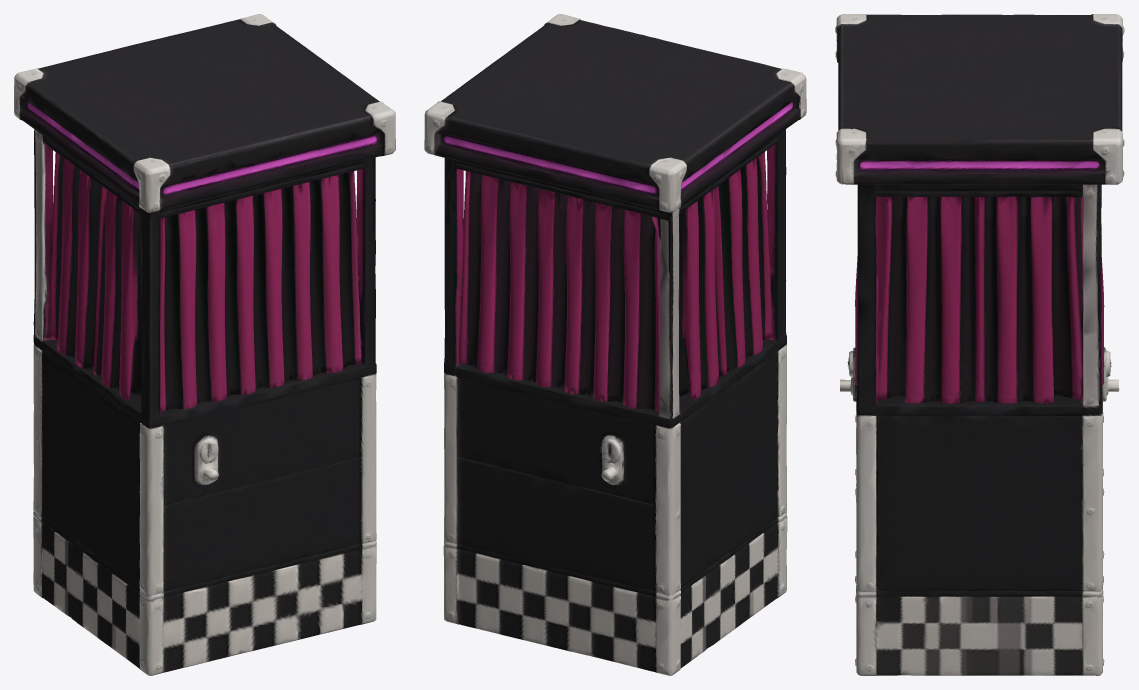
Rendered from photo-booth.glb.
3 views of the same model, side by side, from view 1: azimuth 30°, elevation 25°; view 2: azimuth 150°, elevation 25°; view 3: azimuth 270°, elevation 25° (orthographic). The views are drawn at different scales.
Parts seen in each view (by area): view 1: tripo_node_d1517e24-5600-4c9e-8a0e-b44723336c33; view 2: tripo_node_d1517e24-5600-4c9e-8a0e-b44723336c33; view 3: tripo_node_d1517e24-5600-4c9e-8a0e-b44723336c33.
Boxes of the visible parts, box(x1,y1,x2,y2) form: tripo_node_d1517e24-5600-4c9e-8a0e-b44723336c33: box(14, 14, 395, 675); tripo_node_d1517e24-5600-4c9e-8a0e-b44723336c33: box(424, 14, 806, 675); tripo_node_d1517e24-5600-4c9e-8a0e-b44723336c33: box(835, 14, 1124, 675).
Size of the model in its own units: 0.5026 by 0.9777 by 0.4722.
1 material, 1 textured.
